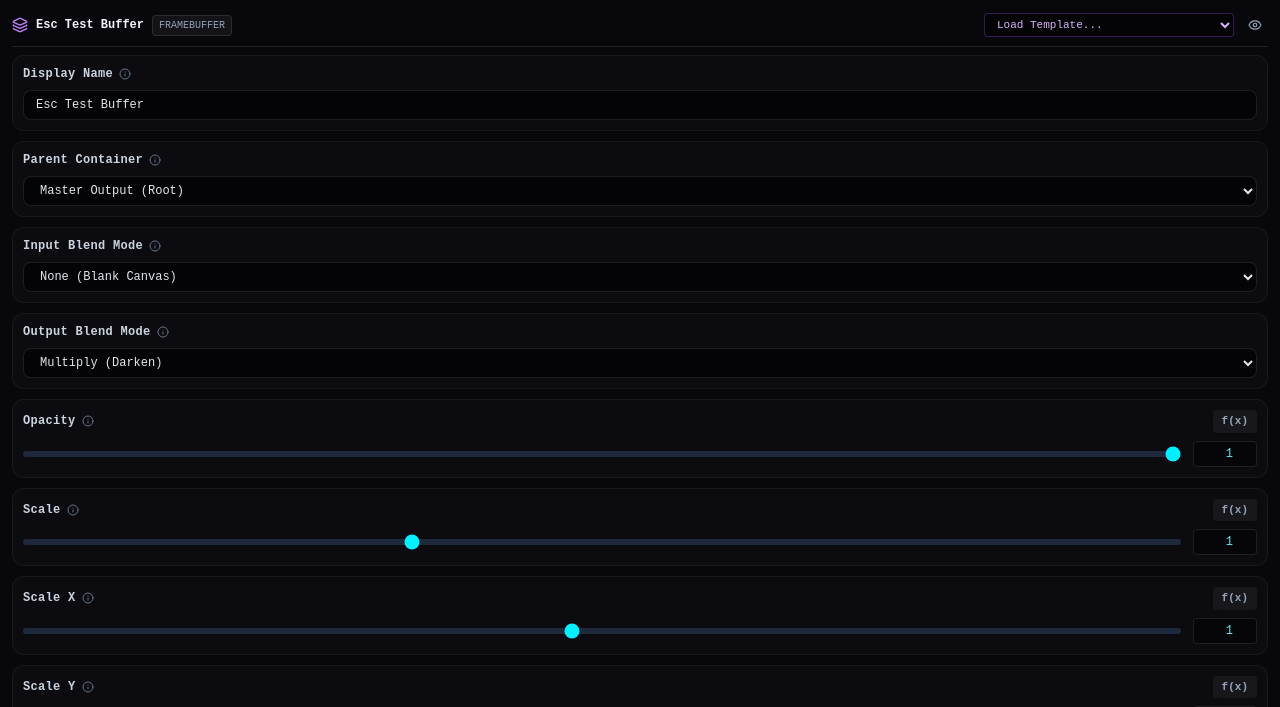
Scenario: Component Preset Selector & Dirty-State Overwrite Guard (Task 3.4) › Template Overwrite Confirmation Modal › dismisses modal on Escape key without applying changes
Select "Infinite Feedback Vortex" in the dropdown with test id "component-preset-dropdown" at [1109, 25], box [984,13,1234,37]
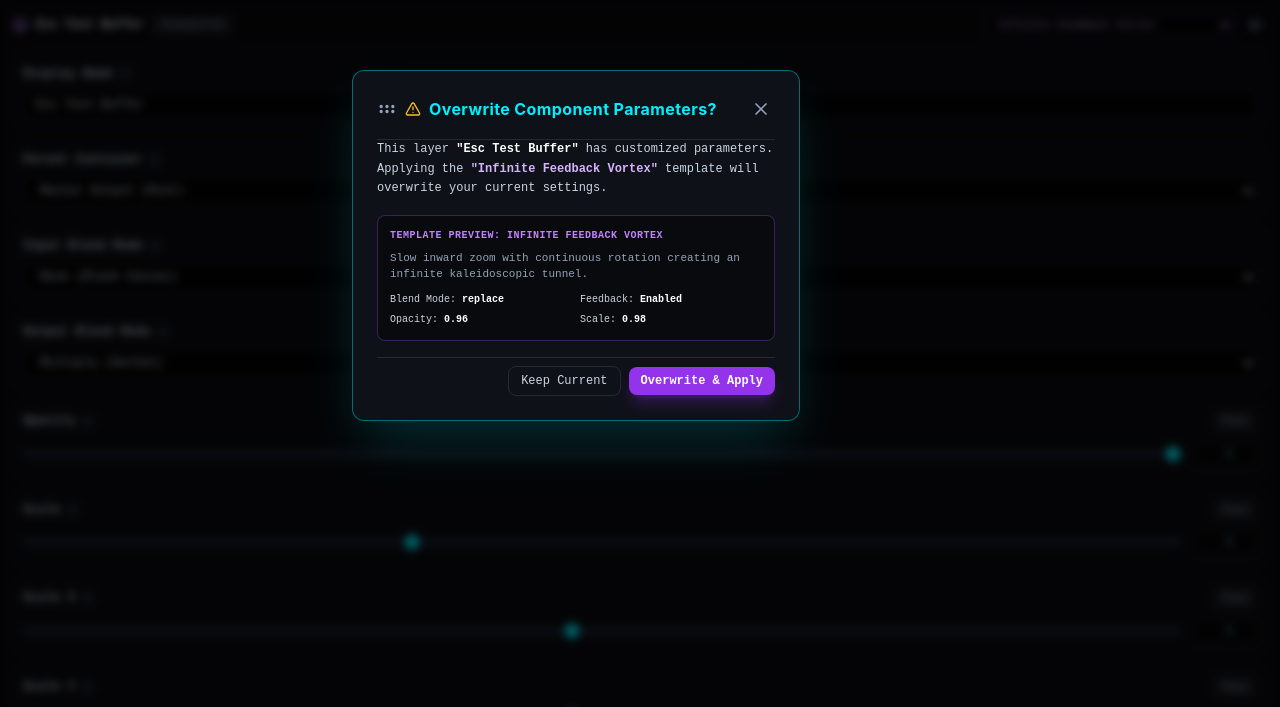
Result: the heading "Overwrite Component Parameters?" is shown at [429,97,717,121]
# Press Escape
Press Escape
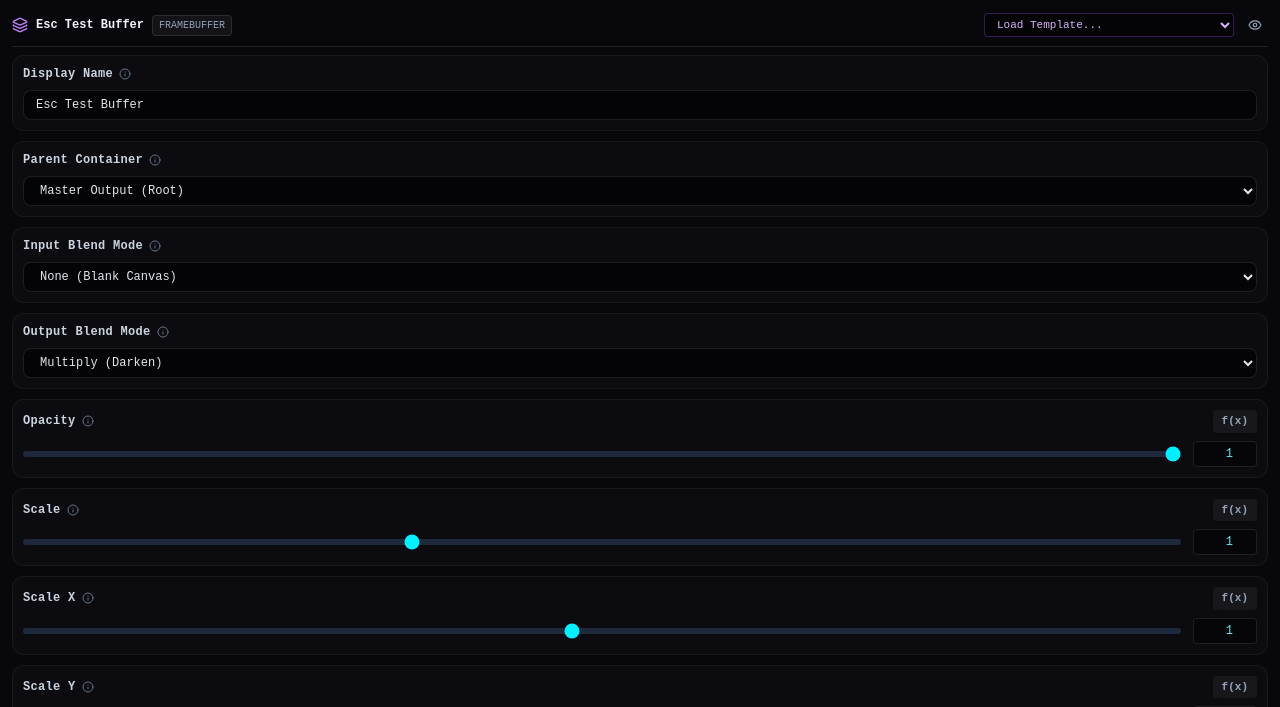
Result: the heading "Overwrite Component Parameters?" is gone
